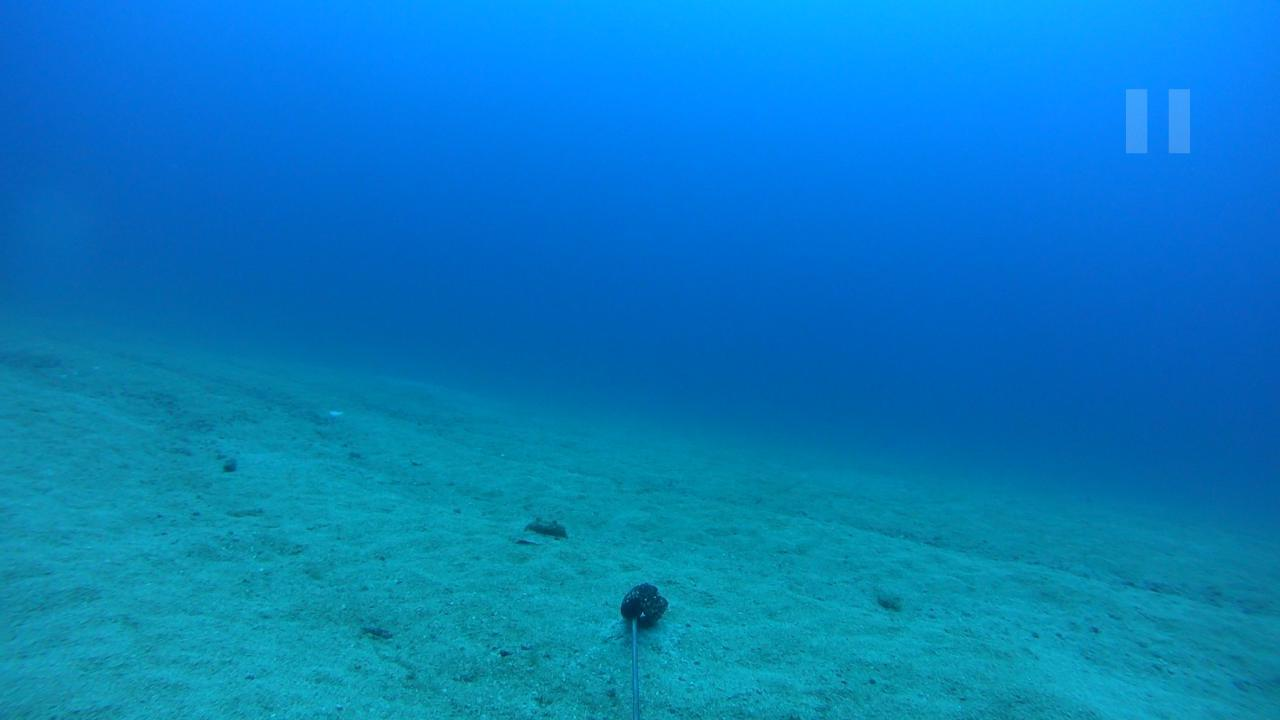bothus: (511, 512, 575, 544)
